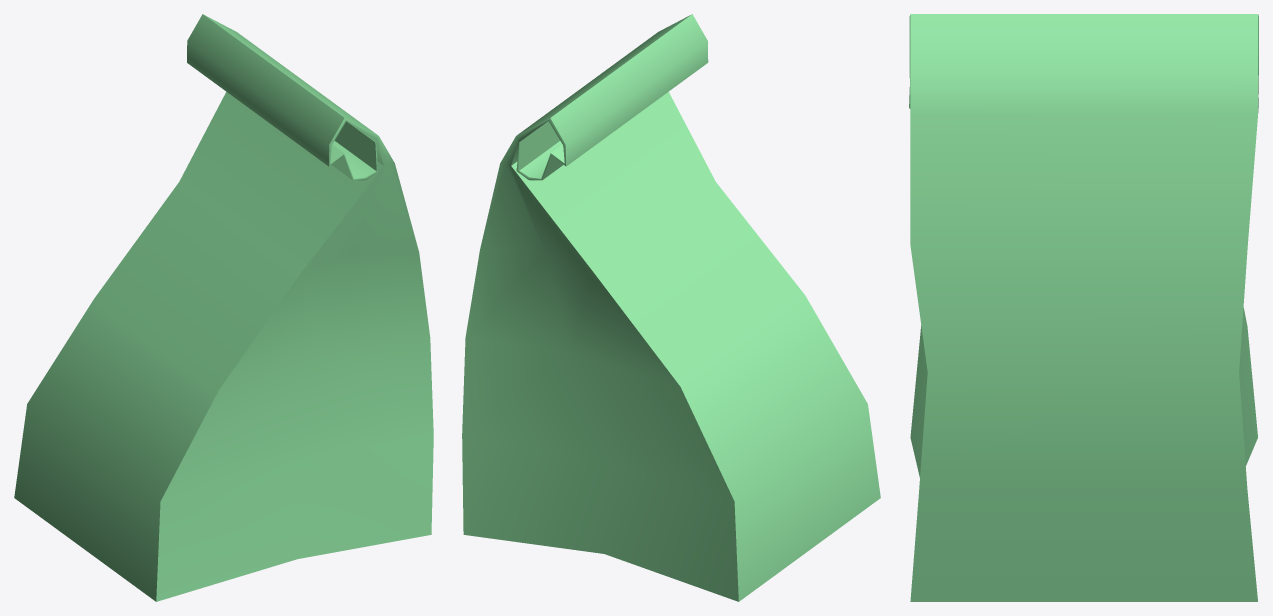
Rendered from Paper_Bag.FBX.
3 renders of one model, left to right at view 1: azimuth 30°, elevation 25°; view 2: azimuth 150°, elevation 25°; view 3: azimuth 270°, elevation 25°, orthographic. The views are drawn at different scales.
Parts seen in each view (by area): view 1: Paper_bag; view 2: Paper_bag; view 3: Paper_bag.
Boxes of the visible parts, x1=… form: Paper_bag: x1=14, y1=14, x2=433, y2=601; Paper_bag: x1=462, y1=14, x2=880, y2=601; Paper_bag: x1=909, y1=14, x2=1258, y2=601.
Bounding box in the file's own units: 2.07 × 3.09 × 1.83.
